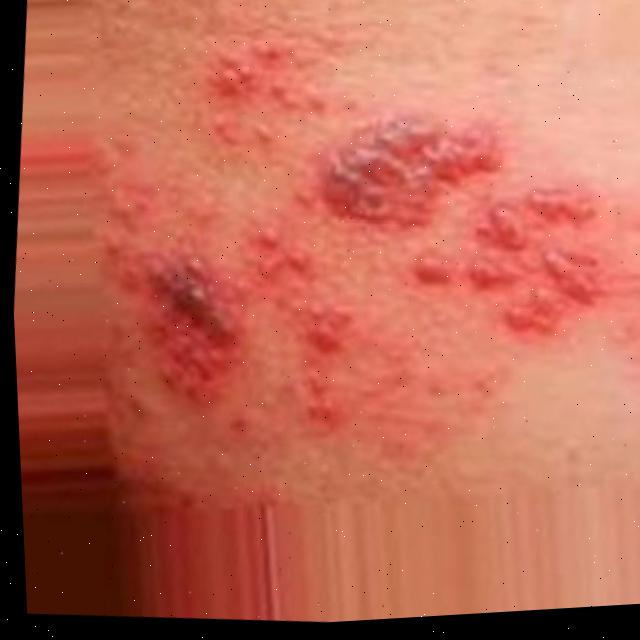Shingles: (304, 89, 640, 362), (91, 170, 359, 447), (192, 4, 350, 147)
